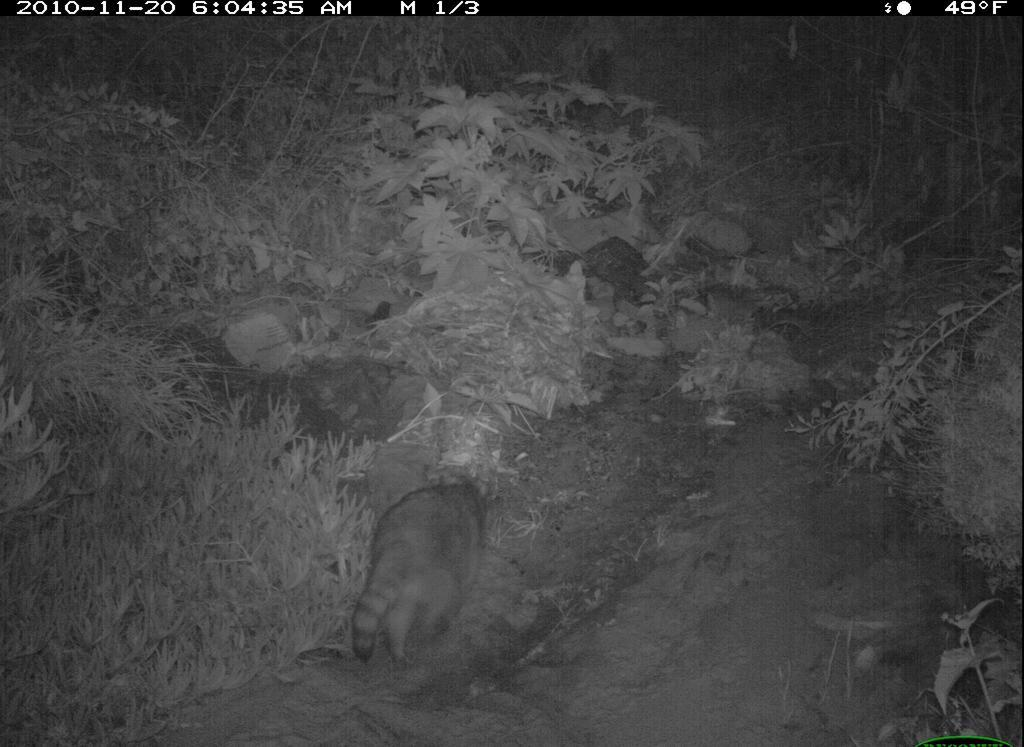raccoon: (324, 472, 523, 676)
